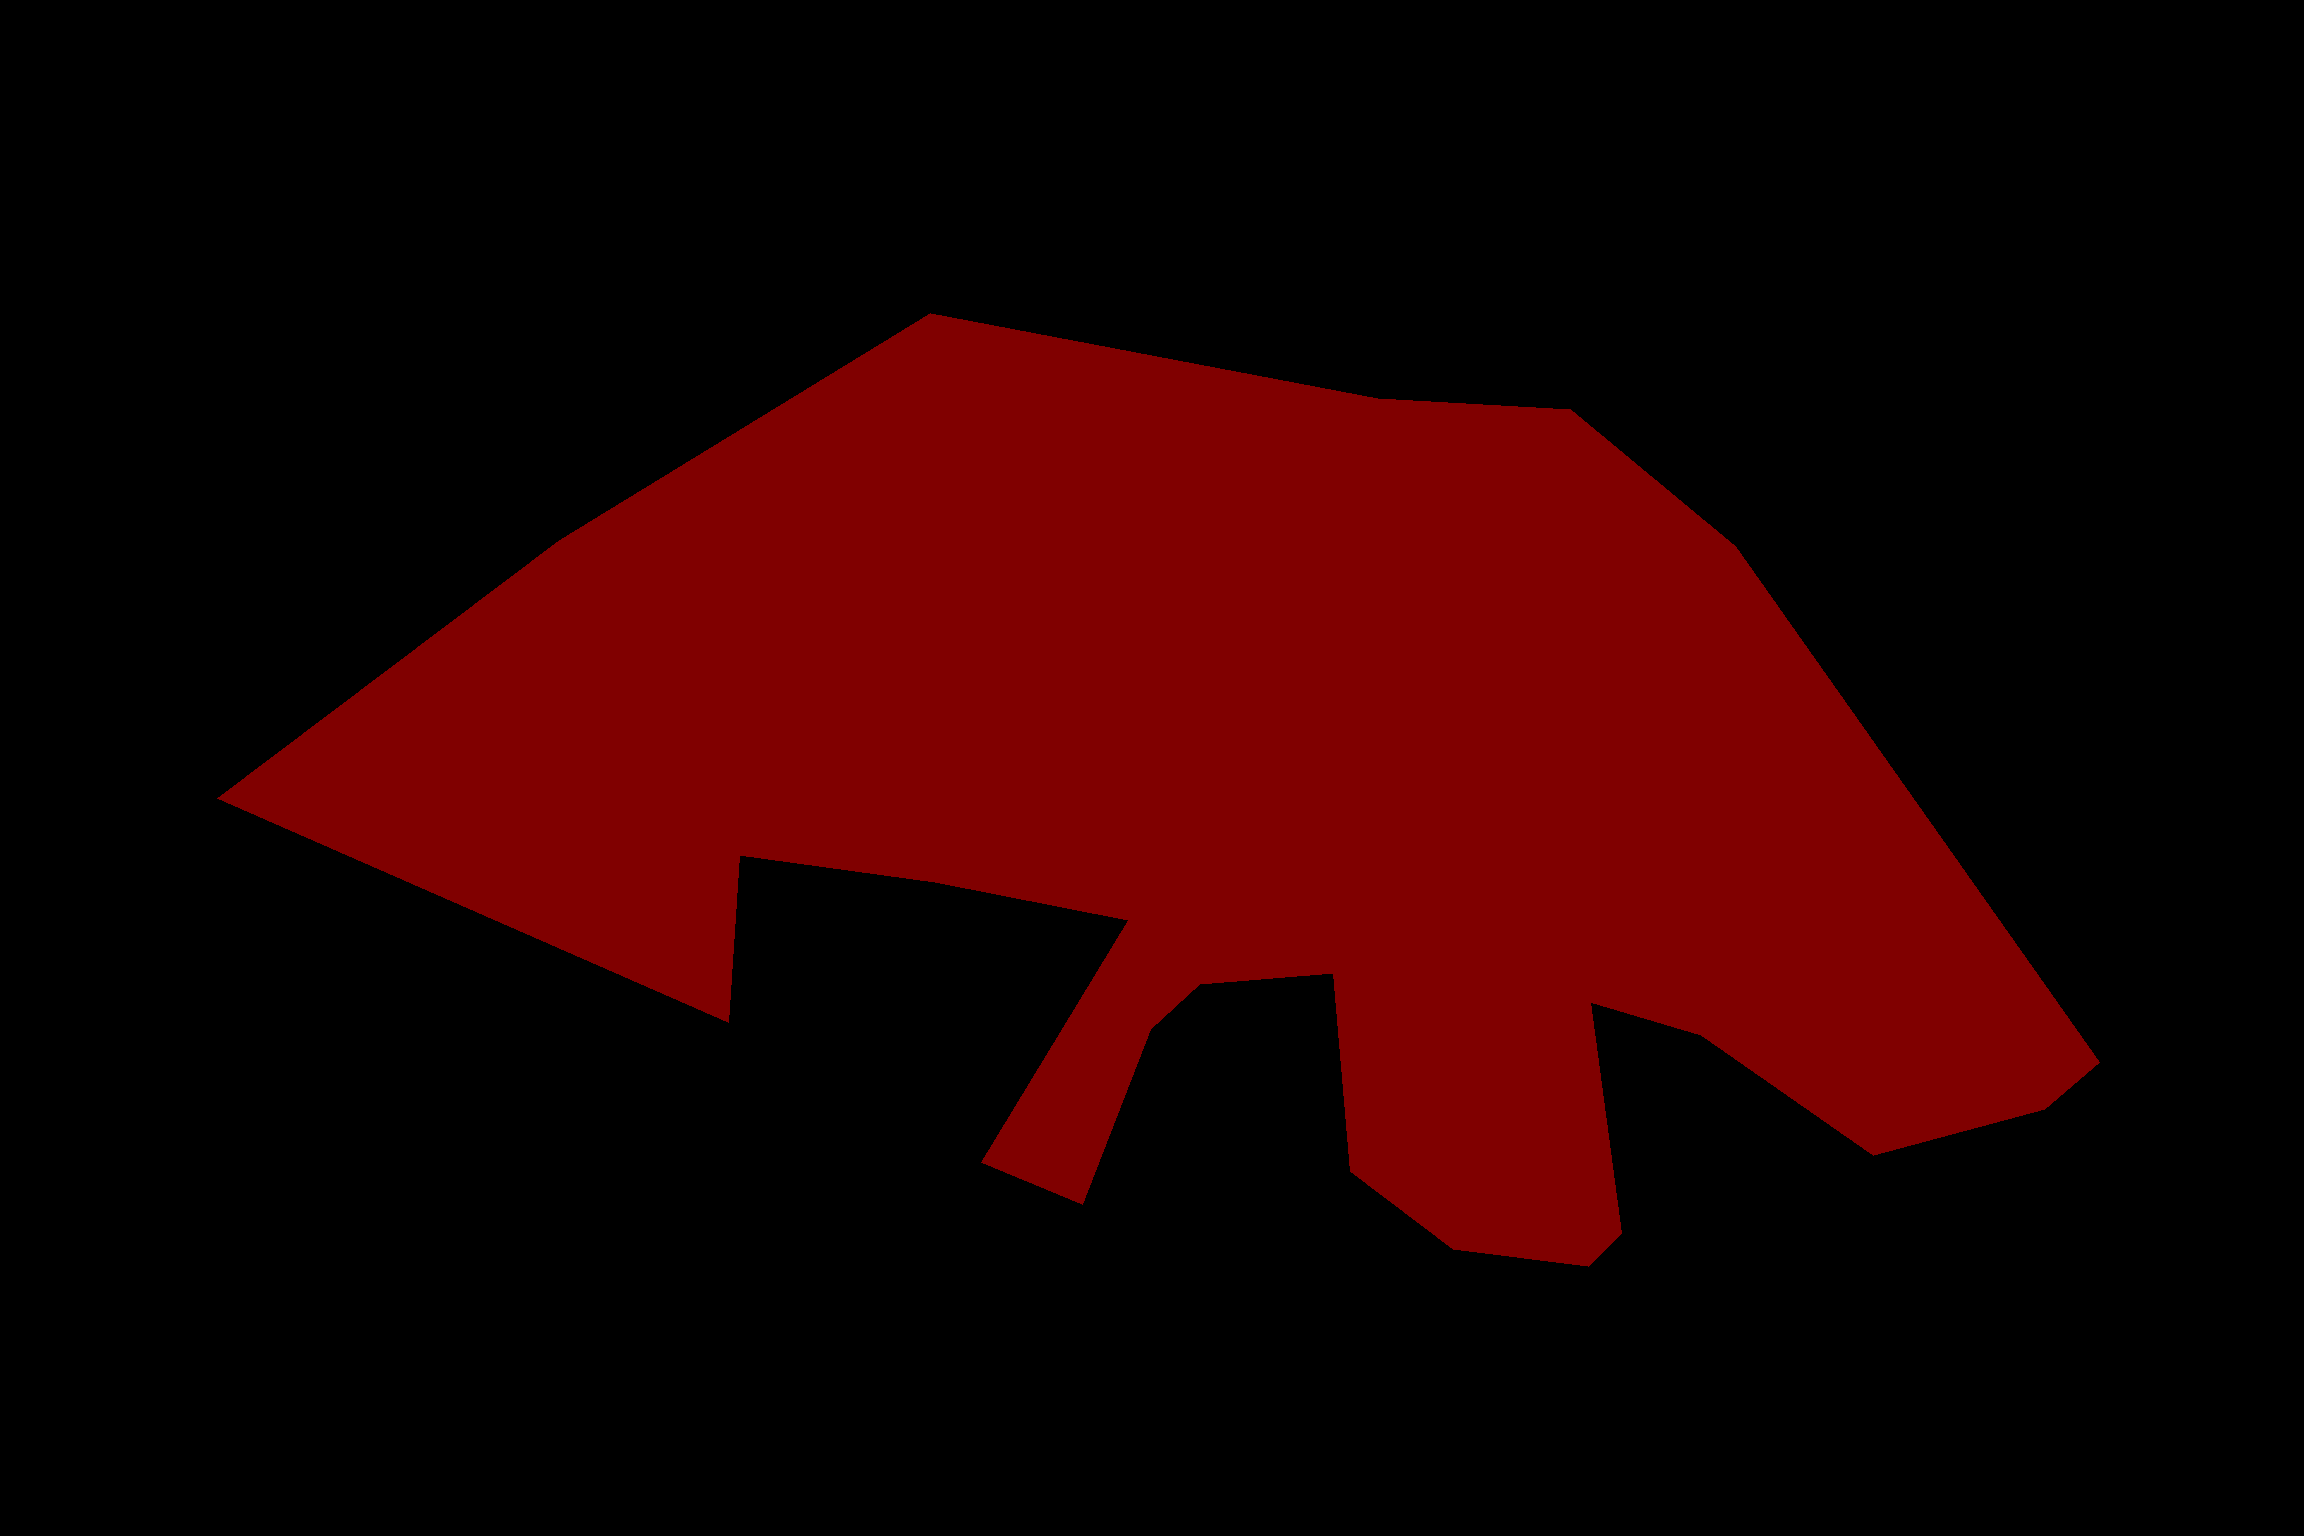fire: (218, 314, 2098, 1265)
